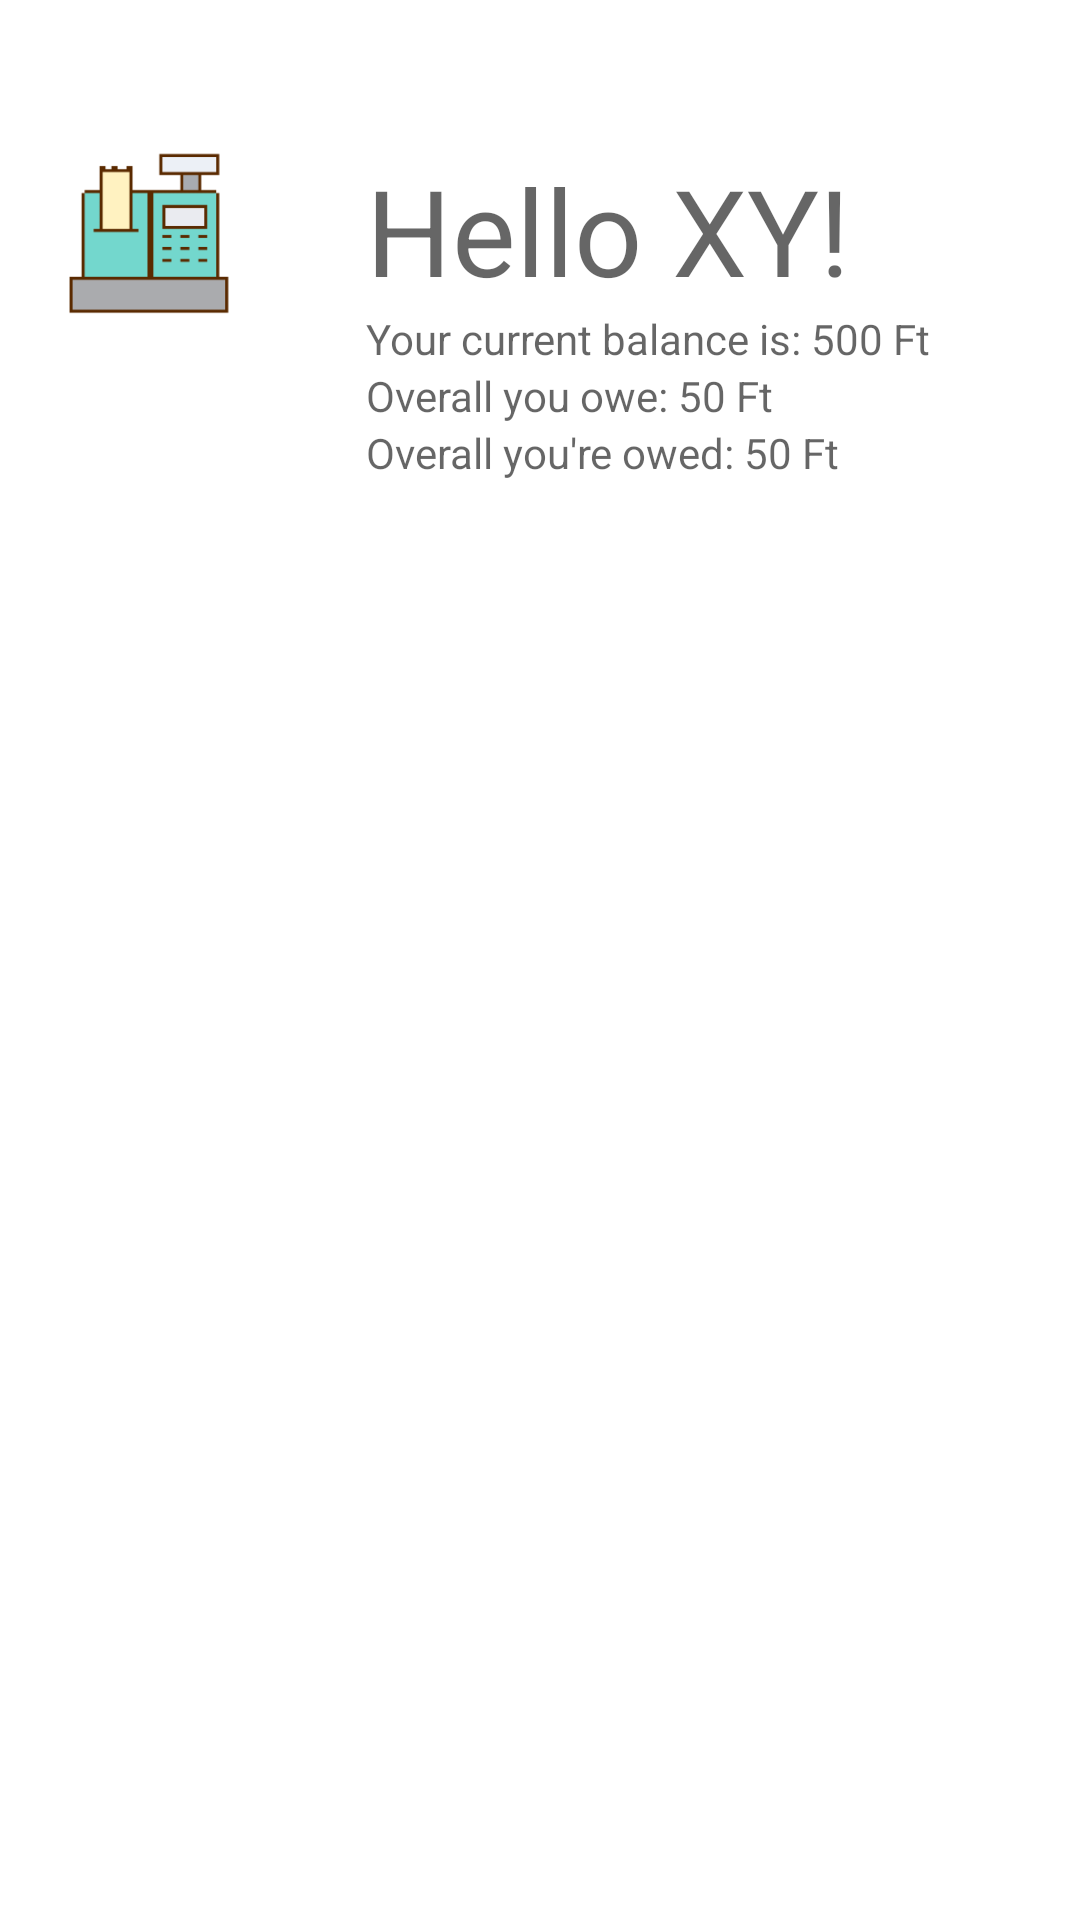

Icon click points for this 1080w x 1920h phone screenshot, format (x=x, y=y):
cashregister: (x=149, y=233)
